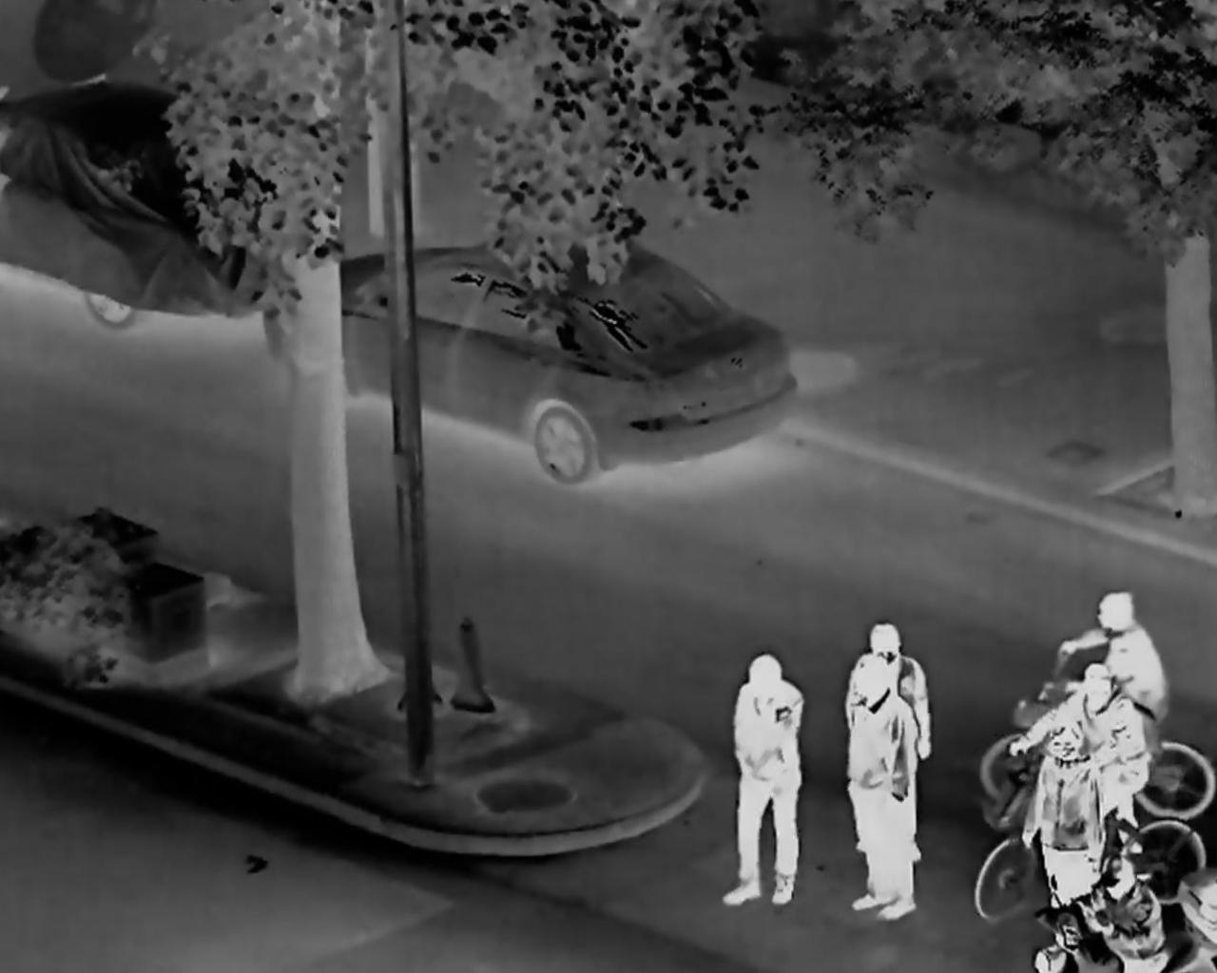person: (1012, 664, 1146, 875), (715, 651, 802, 907), (1057, 590, 1165, 785), (847, 625, 930, 866), (844, 655, 914, 916), (1023, 719, 1096, 939), (1074, 856, 1163, 973)
